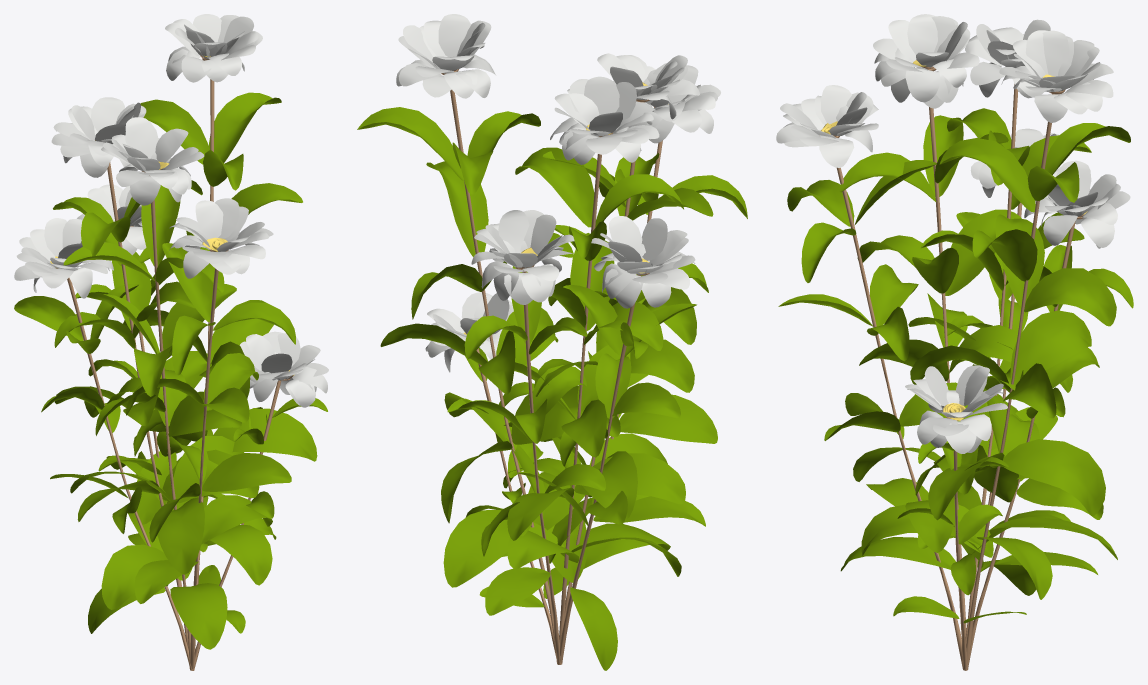
Rendered from jasmine.glb.
3 renders of one model, left to right at view 1: azimuth 30°, elevation 25°; view 2: azimuth 150°, elevation 25°; view 3: azimuth 270°, elevation 25°, orthographic. The views are drawn at different scales.
Parts seen in each view (by area): view 1: Object_6, Object_5, Object_7; view 2: Object_6, Object_5, Object_7; view 3: Object_6, Object_5, Object_7.
Boxes of the visible parts, x1=… form: Object_6: x1=14, y1=92, x2=327, y2=649; Object_5: x1=14, y1=14, x2=328, y2=407; Object_7: x1=56, y1=55, x2=293, y2=670; Object_6: x1=357, y1=107, x2=747, y2=670; Object_5: x1=396, y1=14, x2=720, y2=372; Object_7: x1=441, y1=69, x2=662, y2=664; Object_6: x1=778, y1=108, x2=1133, y2=623; Object_5: x1=776, y1=14, x2=1130, y2=453; Object_7: x1=833, y1=66, x2=1084, y2=670.
Bounding box in the file's own units: 1.44 × 2.94 × 1.44.
